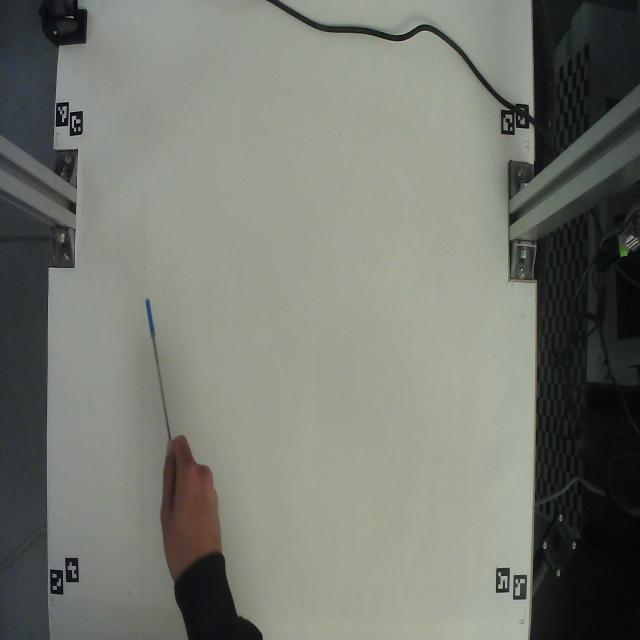NoPres: (136, 284, 184, 440)
